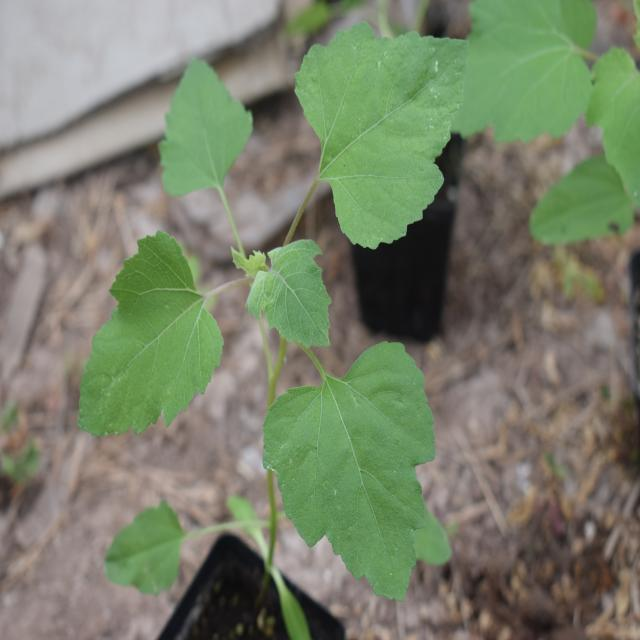cocklebur: (61, 0, 493, 578)
